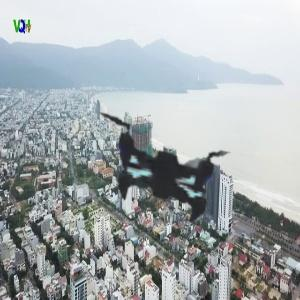drone: (34, 34, 300, 300)
